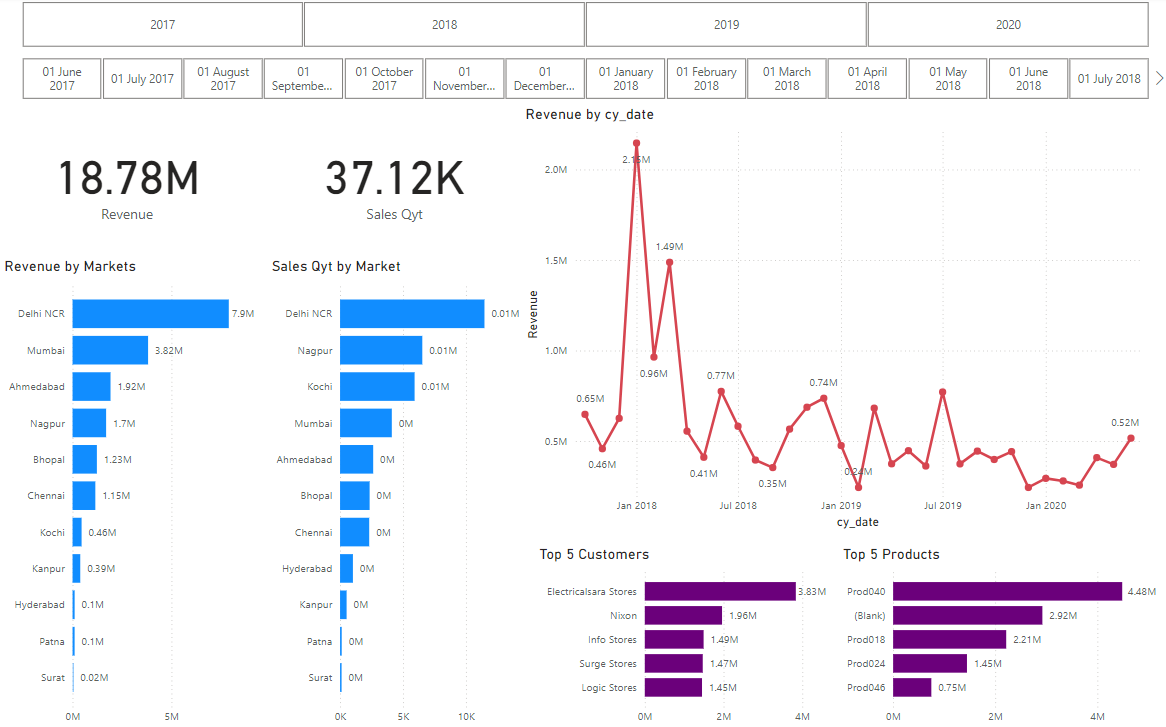

Layout of this report page (visuals, bound fields, positions):
{"tool":"powerbi","page":{"name":"Page 1","canvas":[1350,850],"ordinal":0},"visuals":[{"type":"card","fields":{"Values":["basemeasures.Revenue"]},"box":[0,125.9,293.8,175.1],"z":0},{"type":"card","fields":{"Values":["basemeasures.Sales Qyt"]},"box":[293.8,125.9,322.7,175.1],"z":1000},{"type":"barChart","title":"Revenue by Markets","fields":{"Y":["basemeasures.Revenue"],"Category":["sales markets.markets_name"]},"box":[0,301,308.3,548.5],"z":2000},{"type":"barChart","title":"Sales Qyt by Market","fields":{"Y":["basemeasures.Sales Qyt"],"Category":["sales markets.markets_name"]},"box":[308.3,301,308.3,548.5],"z":3000},{"type":"slicer","fields":{"Values":["sales date.cy_date"]},"box":[0,65.1,1350.3,60.8],"z":4000},{"type":"slicer","fields":{"Values":["sales date.year"]},"box":[0,0,1350.3,65.1],"z":5000},{"type":"barChart","title":"Top 5 Customers","fields":{"Y":["basemeasures.Revenue"],"Category":["sales customers.custmer_name"]},"box":[617.9,633.7,350.8,216.5],"z":6000},{"type":"barChart","title":"Top 5 Products ","fields":{"Y":["basemeasures.Revenue"],"Category":["sales products.product_code"]},"box":[968.7,633.7,381.1,216.5],"z":7000},{"type":"lineChart","fields":{"Y":["basemeasures.Revenue"],"Category":["sales date.cy_date"]},"box":[602,125.6,733.4,495.2],"z":8000}]}

Visuals, with their boxes in screenshot pixels (x1, y1, x2, y2), scaled from the page's 1350x850 canvas onto the 1166x727 screenshot:
card - basemeasures.Revenue: box(0, 108, 254, 257)
card - basemeasures.Sales Qyt: box(254, 108, 532, 257)
"Revenue by Markets" barChart: box(0, 257, 266, 726)
"Sales Qyt by Market" barChart: box(266, 257, 533, 726)
slicer - sales date.cy_date: box(0, 56, 1165, 108)
slicer - sales date.year: box(0, 0, 1165, 56)
"Top 5 Customers" barChart: box(534, 542, 837, 726)
"Top 5 Products " barChart: box(837, 542, 1165, 726)
lineChart - basemeasures.Revenue x sales date.cy_date: box(520, 107, 1153, 531)
